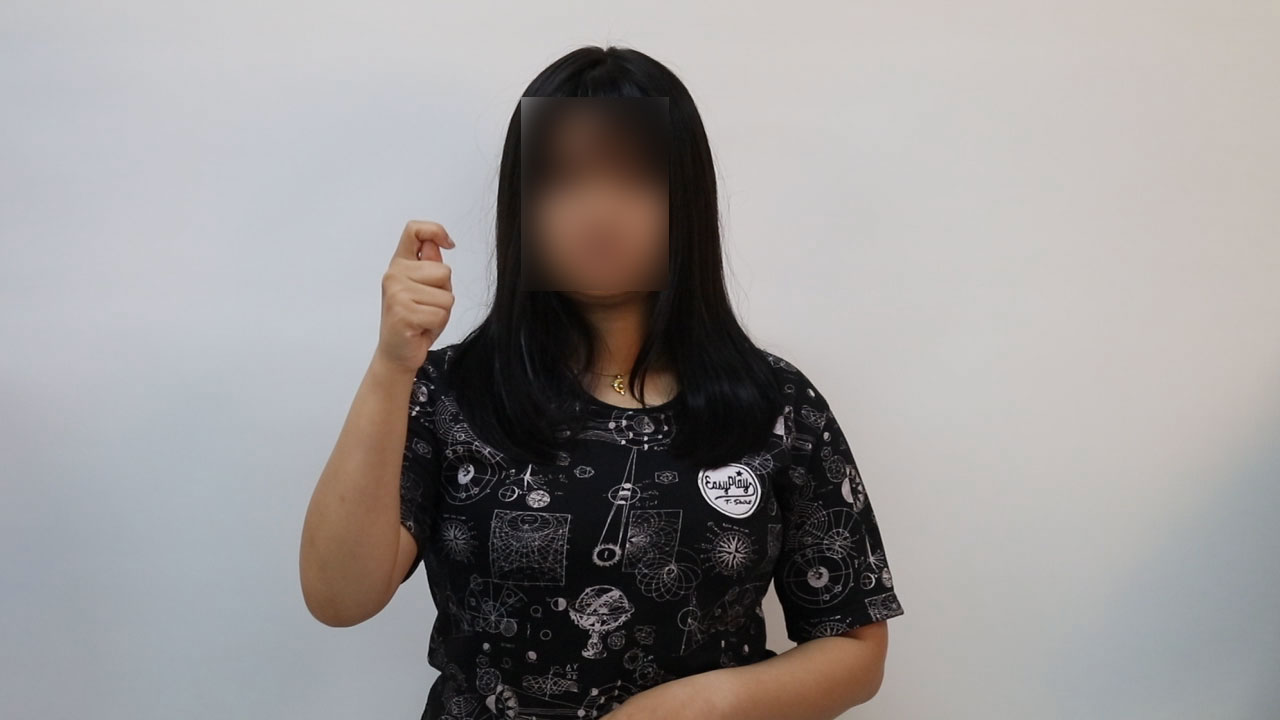or: (374, 212, 464, 372)
